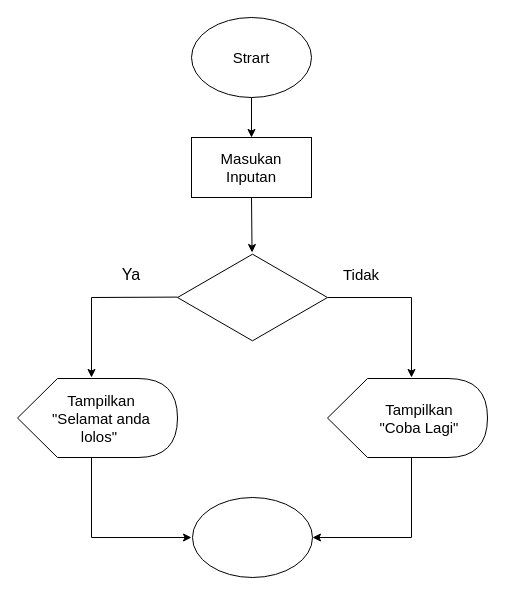
Some shapes in this 505 by 595 pixel diagram are drawn without their labels. The centre of each missing label's shape, as x and y in pixels:
"Kriteria calon pilkada" goes at [252,297].
"selesai" goes at [252,537].
